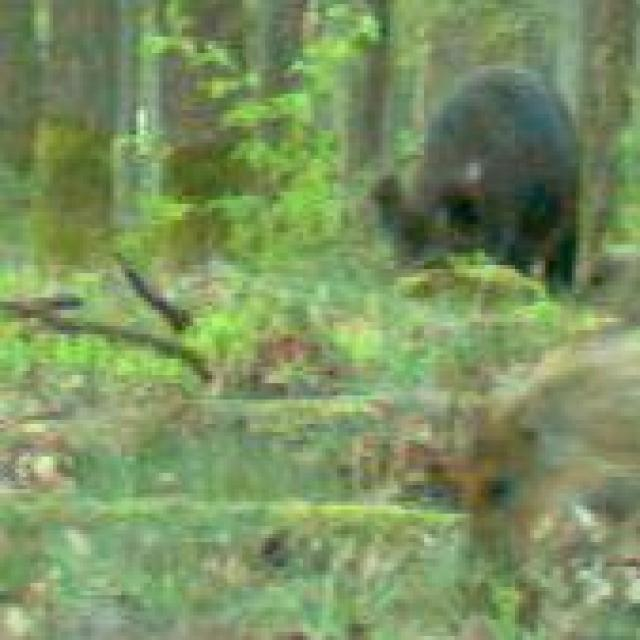pig: (333, 12, 640, 296)
